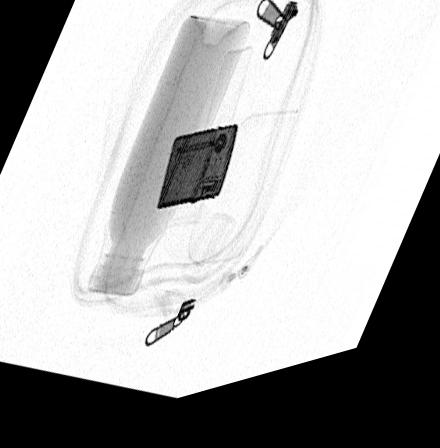Lighter: (157, 136, 239, 219)
